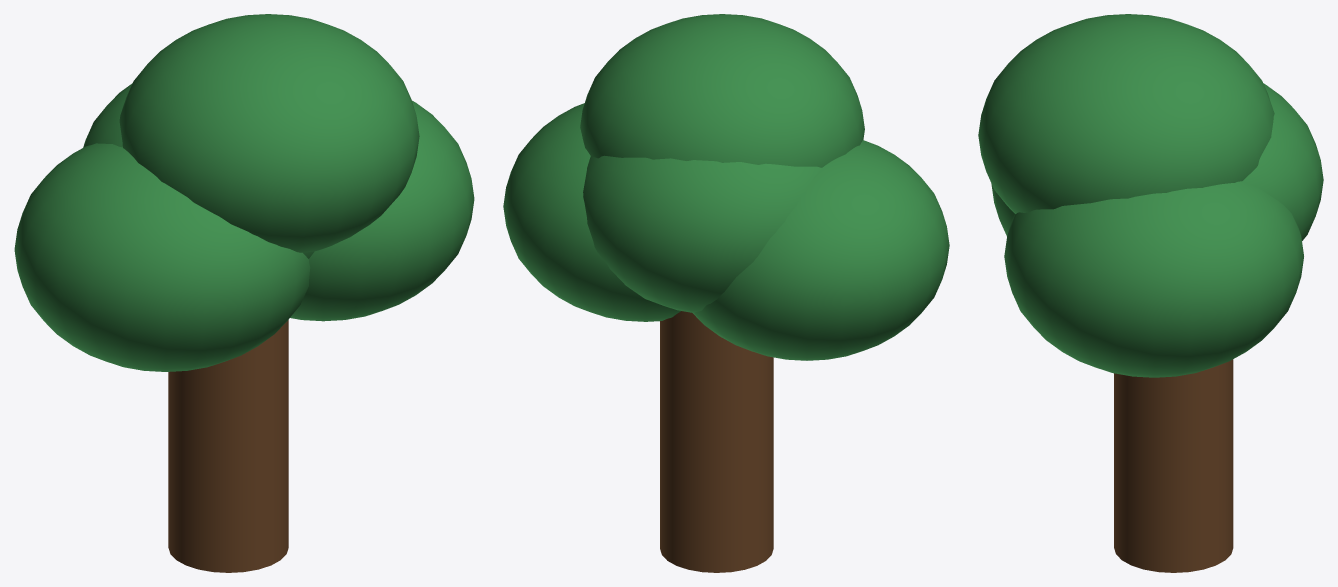
The model's file is v05-oak.glb.
3 views of the same model, side by side, from view 1: azimuth 30°, elevation 25°; view 2: azimuth 150°, elevation 25°; view 3: azimuth 270°, elevation 25° (orthographic). The views are drawn at different scales.
Visible parts, largest first — view 1: 참나무 잎 4, 참나무 잎 3, 참나무 줄기, 참나무 잎 2, 참나무 잎 1; view 2: 참나무 잎 4, 참나무 잎 3, 참나무 줄기, 참나무 잎 1, 참나무 잎 2; view 3: 참나무 잎 2, 참나무 잎 4, 참나무 줄기, 참나무 잎 1, 참나무 잎 3.
Part boxes in pixels (x1,y1,x2,y2): 참나무 잎 4: [119, 14, 419, 252]; 참나무 잎 3: [14, 143, 310, 371]; 참나무 줄기: [168, 320, 288, 572]; 참나무 잎 2: [290, 100, 474, 321]; 참나무 잎 1: [83, 83, 314, 258]; 참나무 잎 4: [580, 14, 864, 167]; 참나무 잎 3: [693, 140, 949, 360]; 참나무 줄기: [660, 311, 773, 572]; 참나무 잎 1: [583, 155, 821, 312]; 참나무 잎 2: [503, 103, 680, 321]; 참나무 잎 2: [1004, 181, 1303, 377]; 참나무 잎 4: [978, 14, 1274, 213]; 참나무 줄기: [1114, 359, 1233, 572]; 참나무 잎 1: [1243, 83, 1323, 240]; 참나무 잎 3: [991, 183, 1014, 235].
Bounding box in the file's own units: 3.76 × 4.46 × 2.66.
